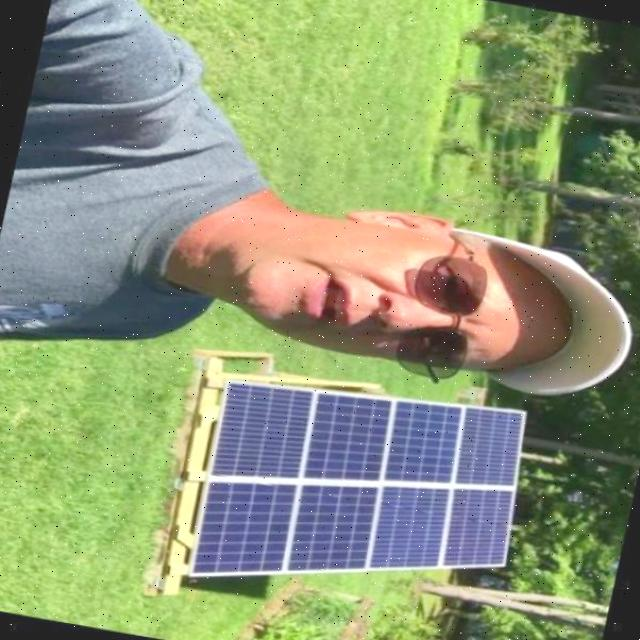Normal Solar Panel: (182, 364, 536, 634)
